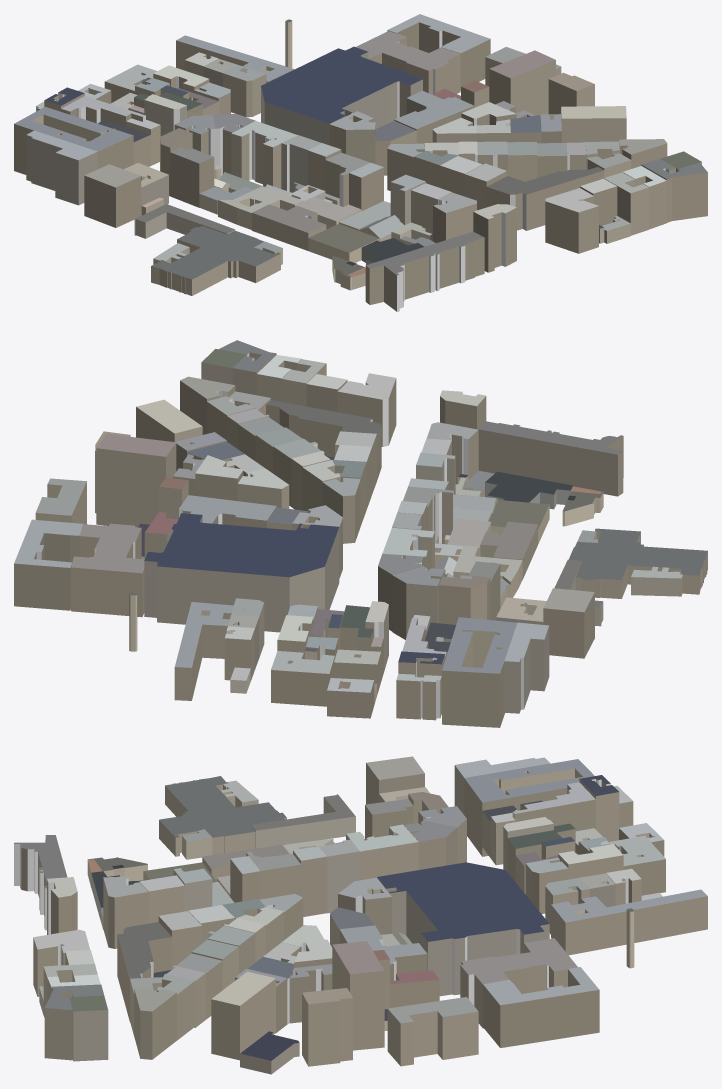
3 views of the same model, one above another, from view 1: azimuth 30°, elevation 25°; view 2: azimuth 150°, elevation 25°; view 3: azimuth 270°, elevation 25° (orthographic). The views are drawn at different scales.
Visible parts, largest first — view 1: tuile; view 2: tuile; view 3: tuile.
Boxes of the visible parts, x1,y1,x2,y2 form: tuile: (14, 14, 707, 311); tuile: (14, 340, 707, 727); tuile: (14, 756, 707, 1074).
Size of the model in its own units: 269 by 39.33 by 284.
